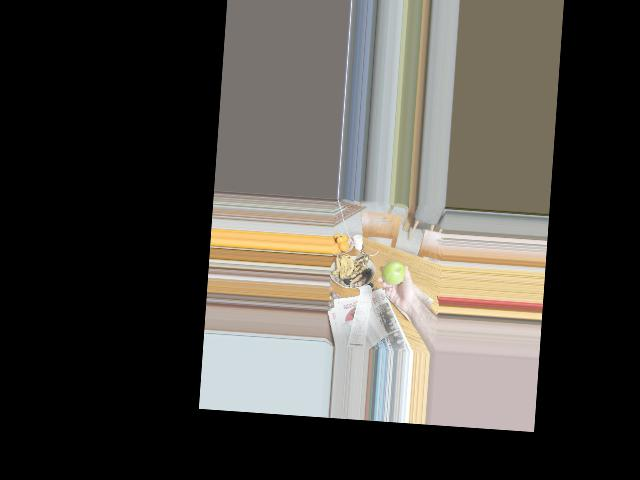apple: (381, 260, 407, 285)
